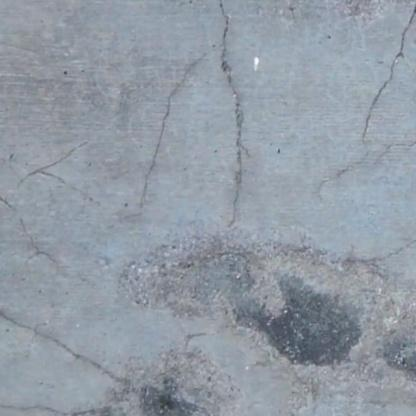Cracks: (124, 0, 253, 237), (324, 0, 416, 197), (0, 292, 141, 397), (324, 220, 416, 277), (12, 132, 101, 189), (4, 212, 53, 261), (0, 396, 117, 416), (188, 396, 245, 416), (0, 172, 5, 205)
